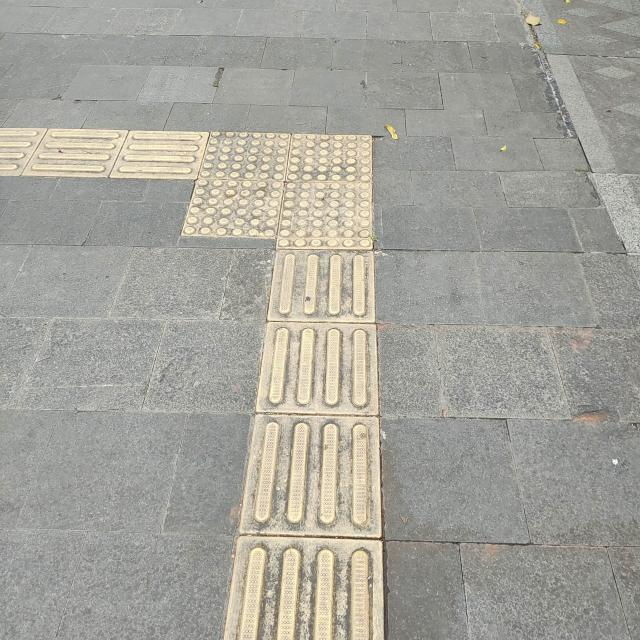kiri: (76, 76, 450, 322)
